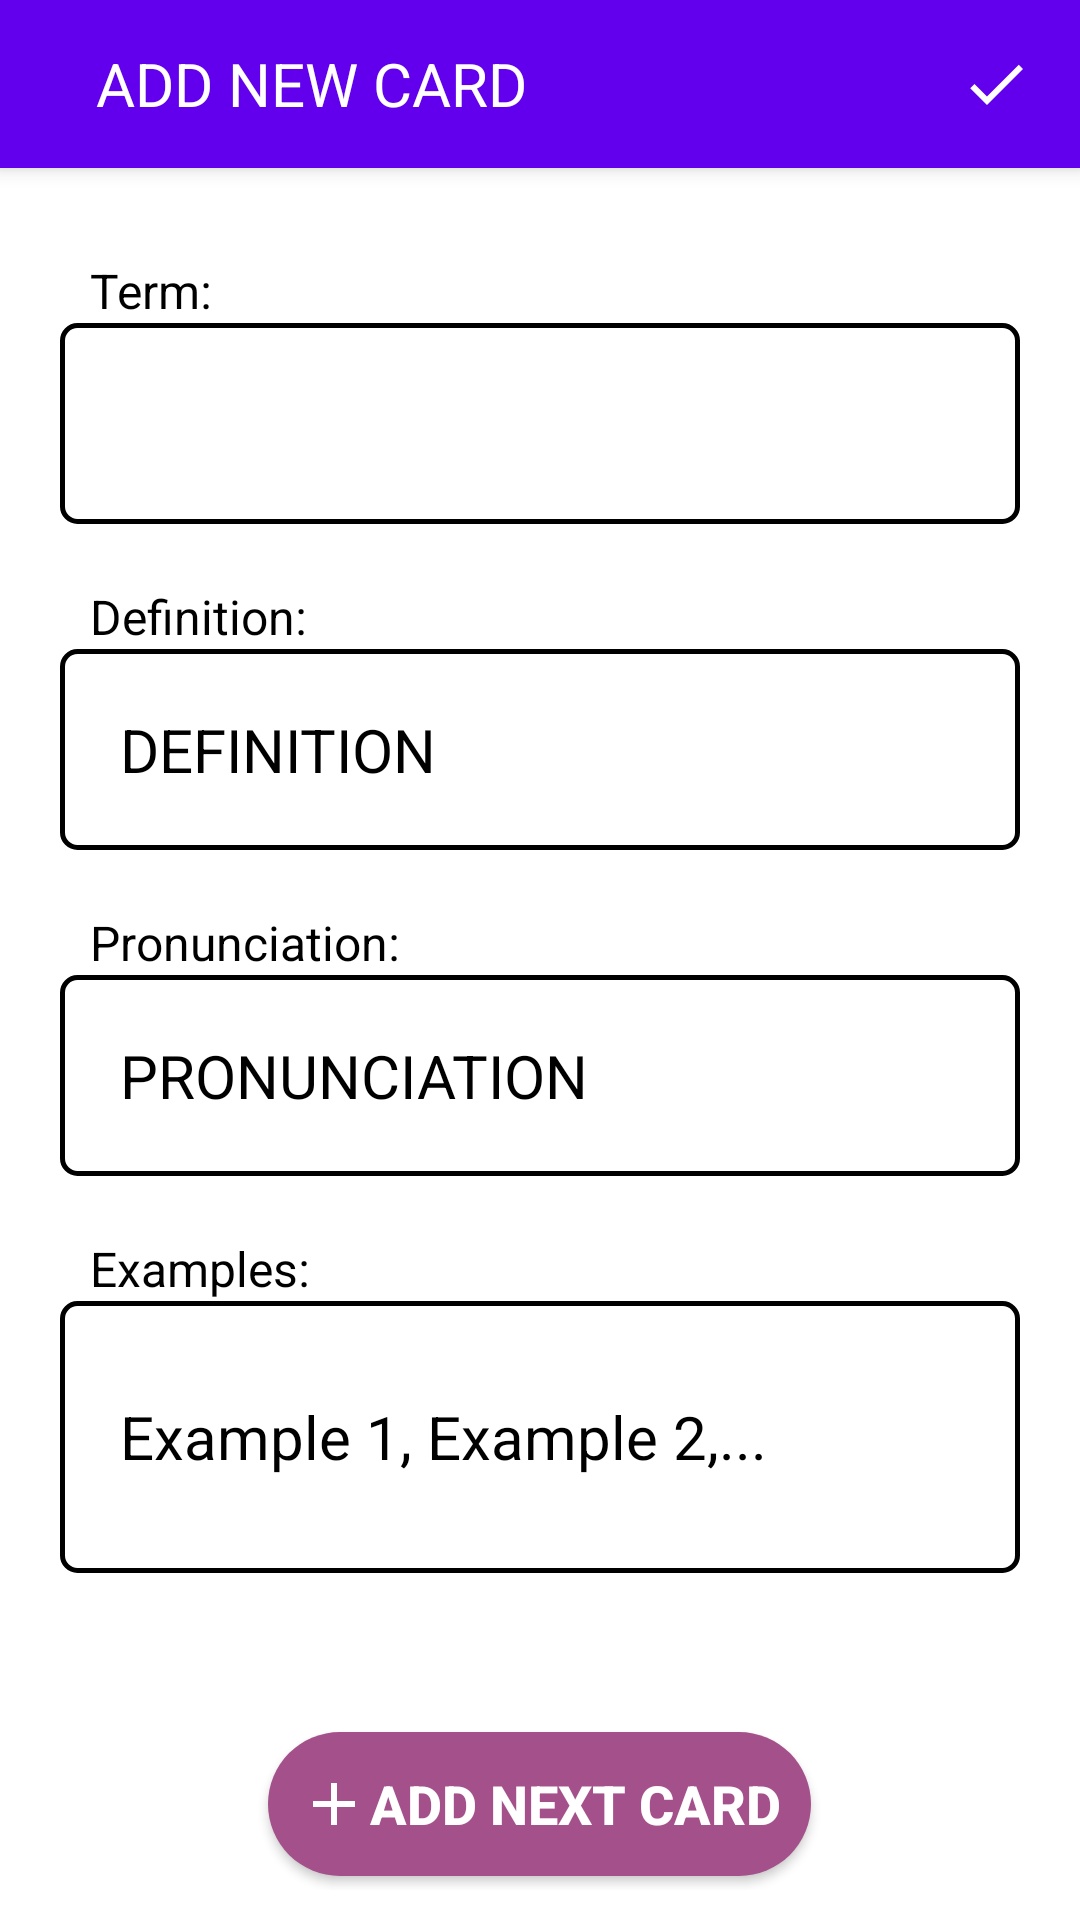

Named icons in this screenshot (1080w x 1920h) and their centers, (x,y):
check: (996,85)
